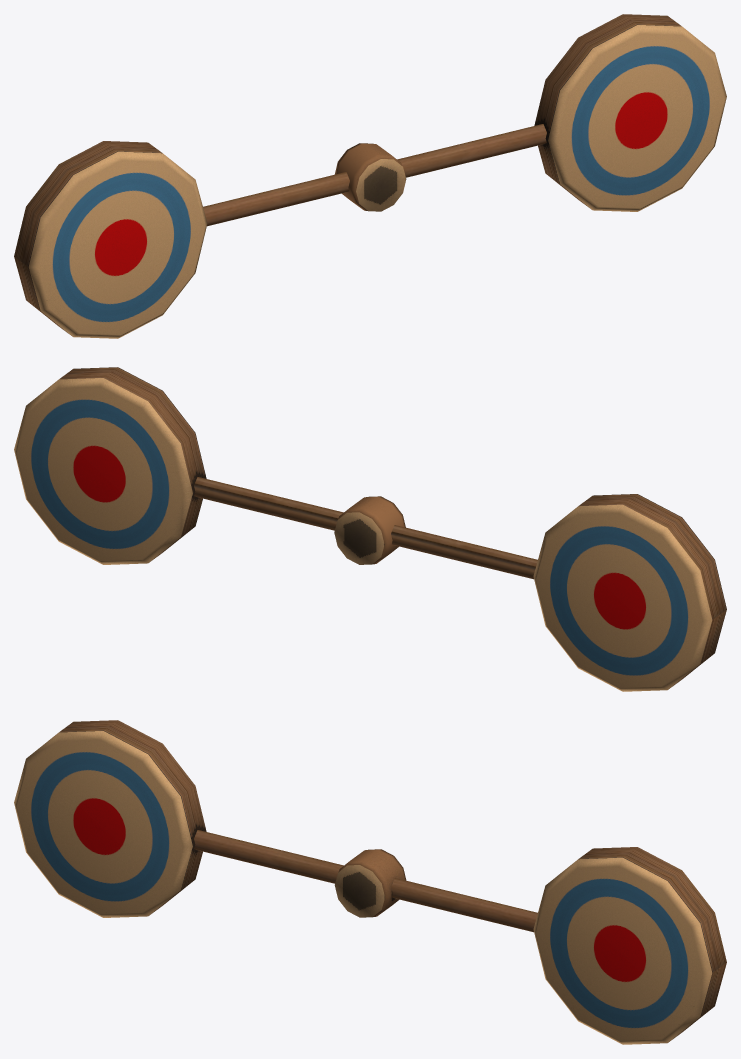
The model's file is Target01.fbx.
3 renders of one model, top to bottom at view 1: azimuth 30°, elevation 25°; view 2: azimuth 150°, elevation 25°; view 3: azimuth 330°, elevation 25°, orthographic.
Parts seen in each view (by area): view 1: Target01; view 2: Target01; view 3: Target01.
Boxes of the visible parts, left/top/right/bottom form: Target01: left=14, top=14, right=726, bottom=338; Target01: left=14, top=367, right=726, bottom=691; Target01: left=14, top=720, right=726, bottom=1044.
Size of the model in its own units: 72.4 by 18.55 by 3.89.
